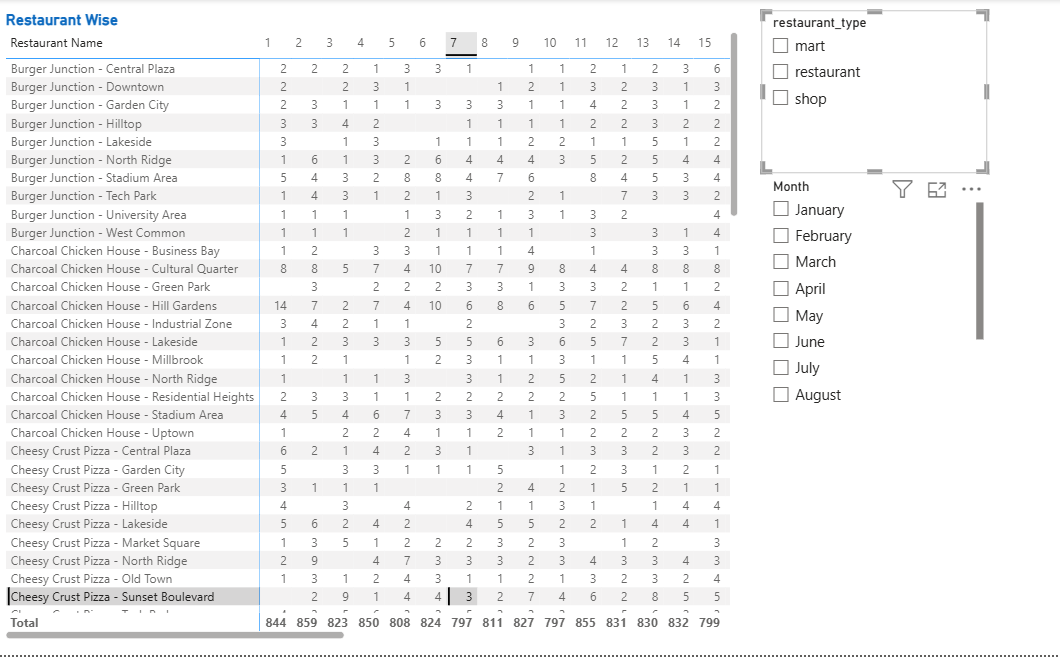

This screenshot's page, from the dashboard's own definition file:
{"tool":"powerbi","page":{"name":"Restaurant Wise","canvas":[1280,720],"ordinal":2},"visuals":[{"type":"pivotTable","title":"Restaurant Wise","fields":{"Rows":["sample_orders.Restaurant Name"],"Values":["Count(sample_orders.Order ID)"],"Columns":["sample_orders.Date.Variation.Date Hierarchy.Day"]},"box":[12.3,12.3,813.7,695.7],"z":0},{"type":"slicer","fields":{"Values":["sample_restaurant_master.restaurant_type"]},"box":[846.2,12.5,248.8,178.8],"z":1000},{"type":"slicer","fields":{"Values":["sample_orders.Date.Variation.Date Hierarchy.Month"]},"box":[846.2,192.5,248.8,263.8],"z":2000}]}

Visuals, with their boxes on the page's 1280x720 design canvas (x1, y1, x2, y2). These are canvas units, not pixel positions in the 1060x657 screenshot, which may show the page scaled, cropped or inside an application window:
"Restaurant Wise" pivotTable: 12/12/826/708
slicer - sample_restaurant_master.restaurant_type: 846/12/1095/191
slicer - sample_orders.Date.Variation.Date Hierarchy.Month: 846/192/1095/456
